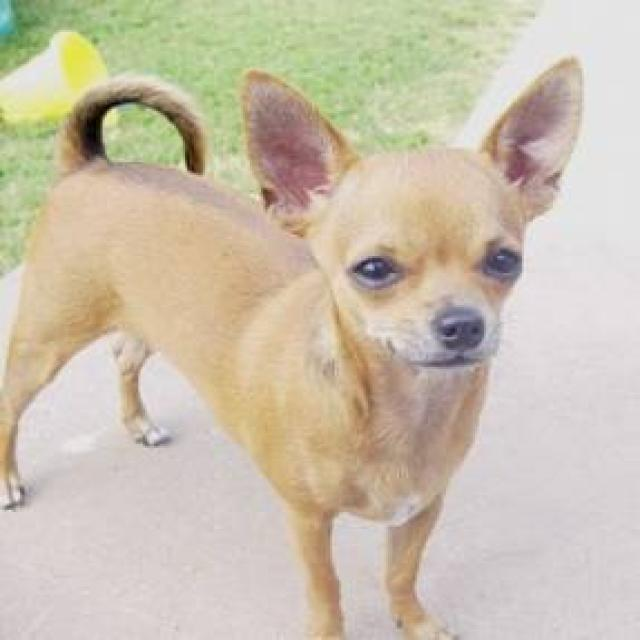dog-chihuahua: (2, 47, 591, 636)
